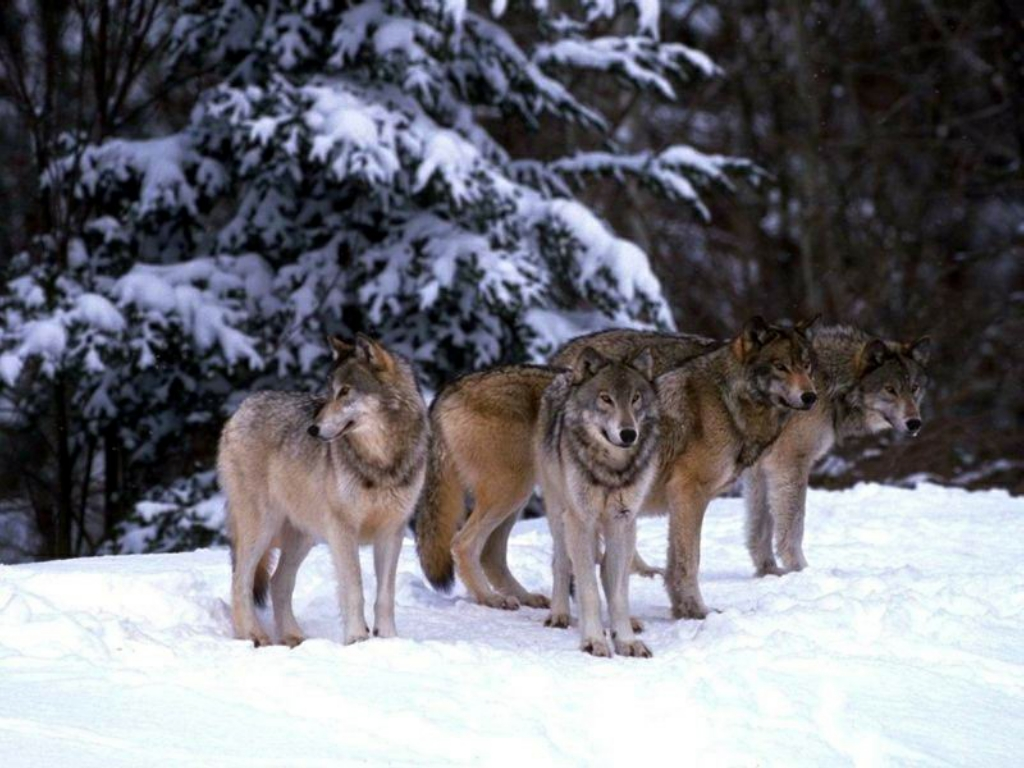wolf: (405, 304, 835, 621), (525, 314, 937, 569), (196, 319, 436, 657), (527, 331, 675, 674)
